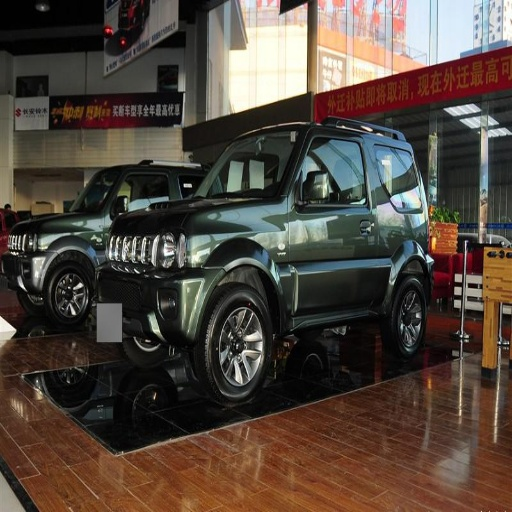front_glass: (206, 132, 290, 195)
